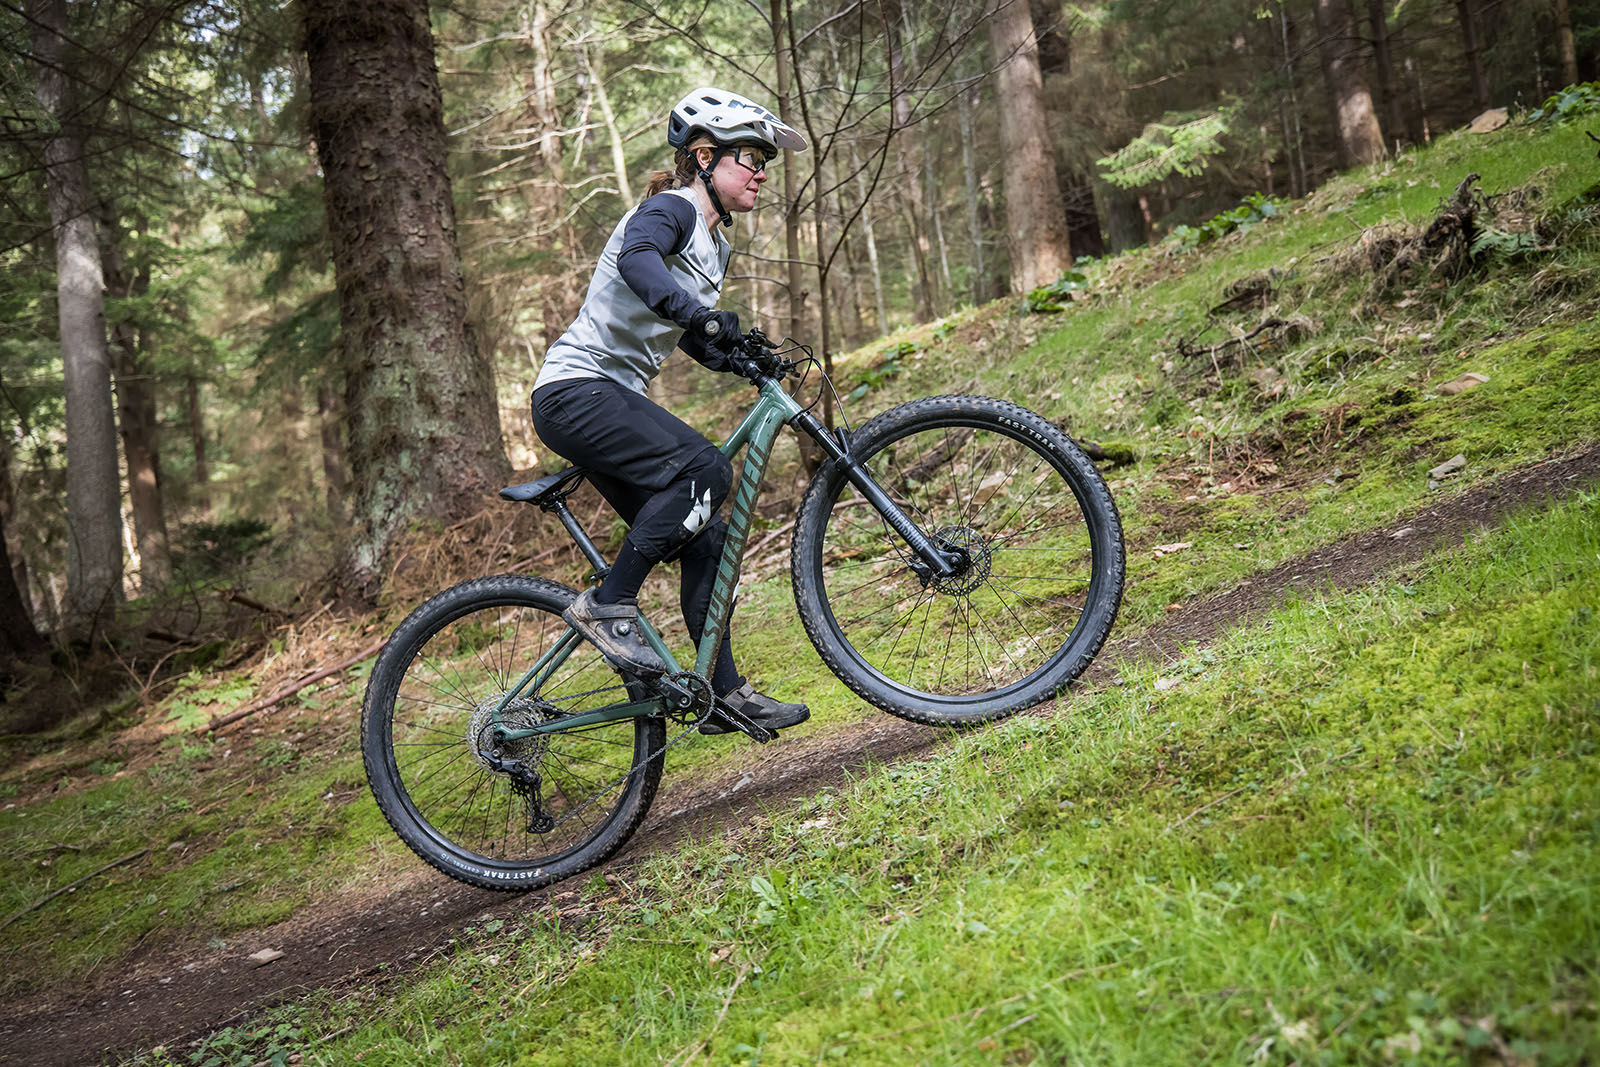bicycle: (355, 313, 1135, 893)
